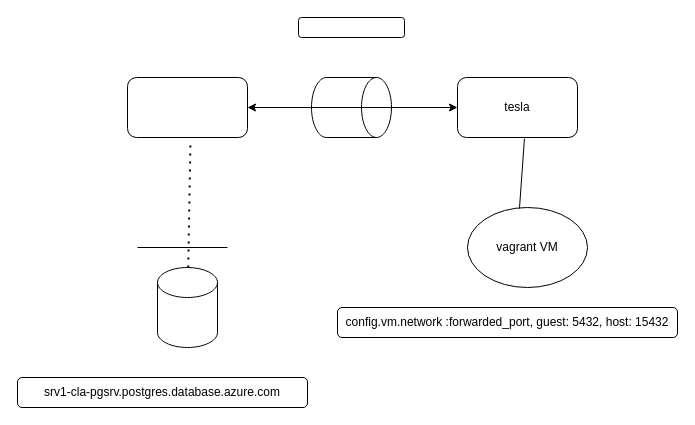
The diagram is 695 pixels wide and 425 high, and some of its shapes have lost their labels. Each missing label, with the centre of its shape:
"lcst-phptest-01" belongs at (x=187, y=107).
"SSH tunnel" belongs at (x=351, y=27).
